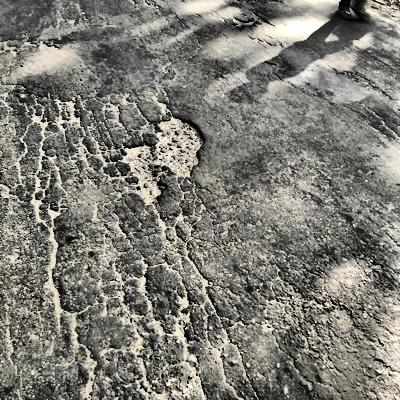pothole: (118, 112, 206, 207)
